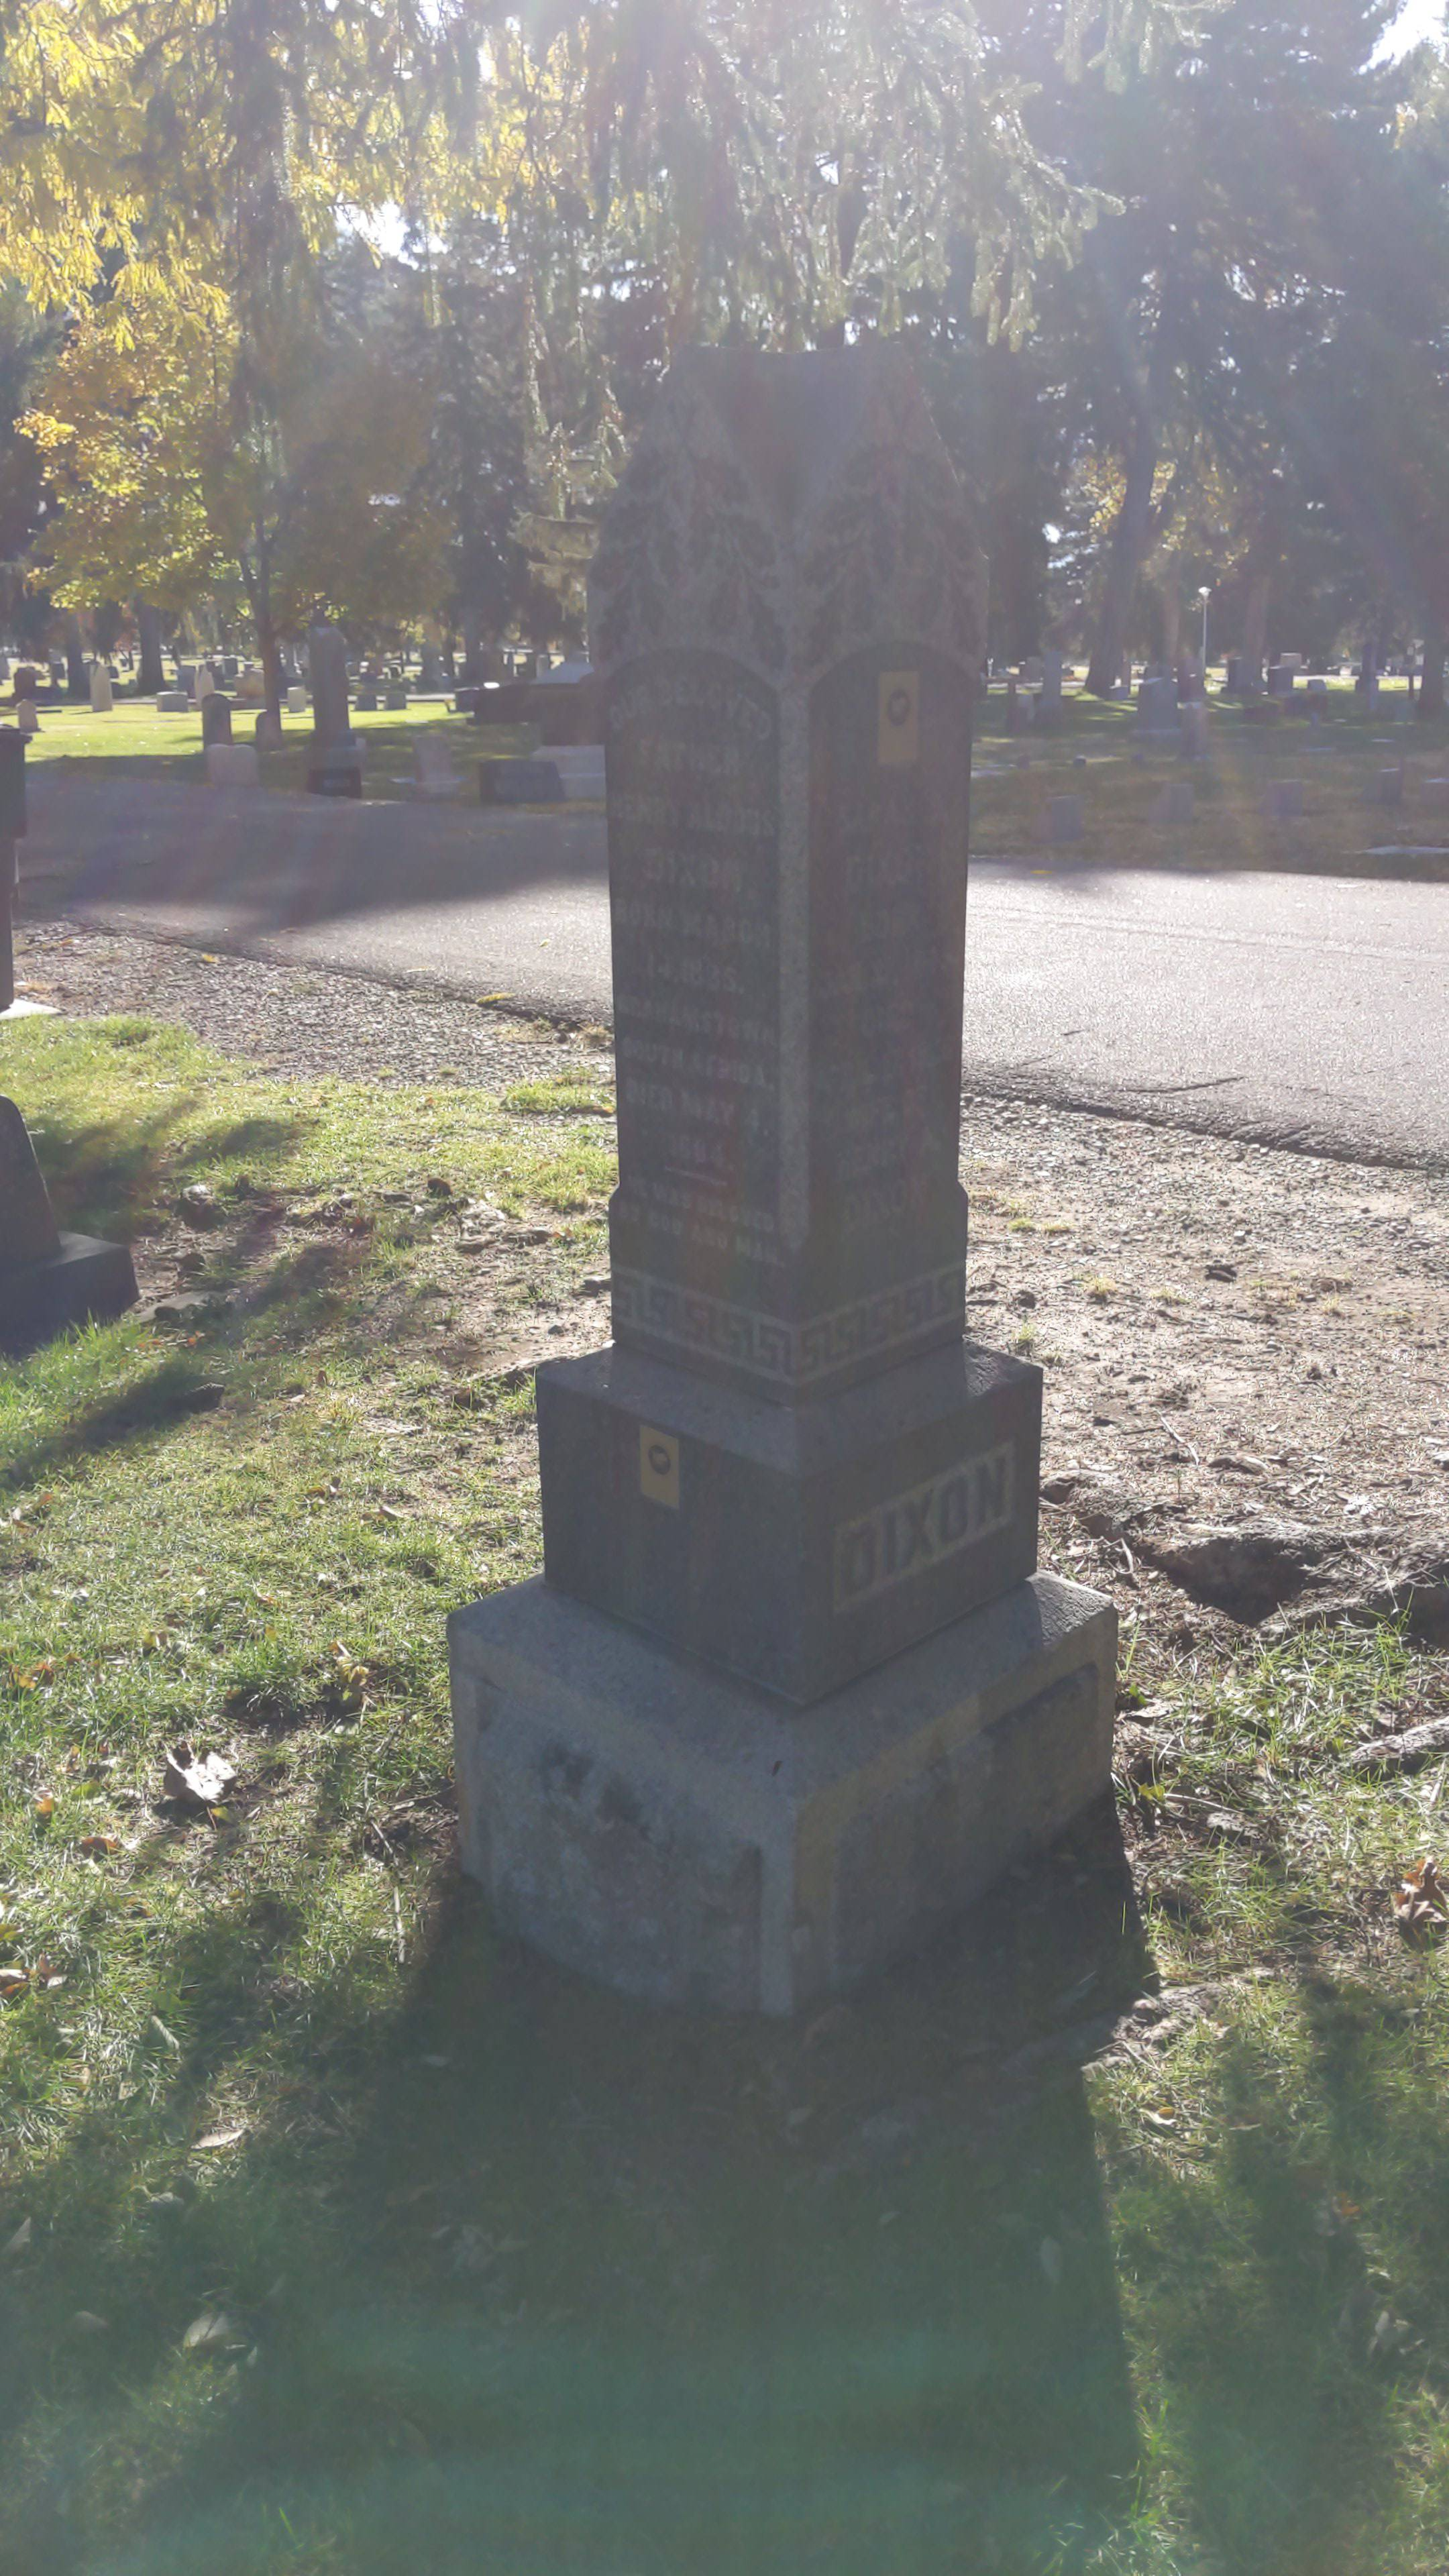obelisk: (541, 331, 1026, 1704)
